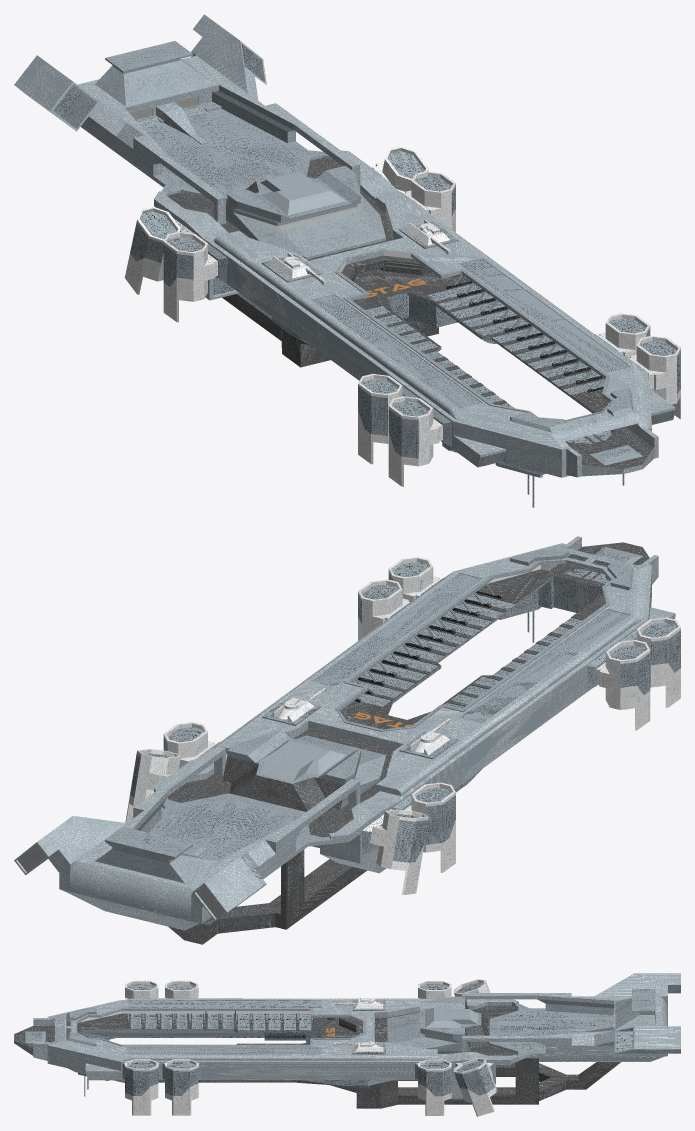
The model's file is airbrone2.fbx.
3 renders of one model, top to bottom at view 1: azimuth 30°, elevation 25°; view 2: azimuth 150°, elevation 25°; view 3: azimuth 270°, elevation 25°, orthographic. The views are drawn at different scales.
Visible parts, largest first — view 1: Group16, Group17, Group30, Group86, Group84, Group74, Group11, Group77, Group75, Group67; view 2: Group16, Group17, Group74, Group84, Group86, Group30, Group67, Group75, Group77, Group11, Group76, Group85; view 3: Group17, Group16, Group75, Group67, Group77, Group11, Group30, Group74, Group86, Group84, Group85, Group76.
Boxes of the visible parts, x1=… form: Group16: x1=14, y1=49, x2=632, y2=507; Group17: x1=140, y1=14, x2=675, y2=485; Group30: x1=388, y1=396, x2=442, y2=486; Group86: x1=163, y1=231, x2=217, y2=322; Group84: x1=124, y1=206, x2=180, y2=294; Group74: x1=358, y1=373, x2=402, y2=464; Group11: x1=629, y1=336, x2=680, y2=419; Group77: x1=404, y1=171, x2=455, y2=232; Group75: x1=372, y1=146, x2=428, y2=193; Group67: x1=598, y1=313, x2=650, y2=358; Group16: x1=130, y1=544, x2=675, y2=944; Group17: x1=14, y1=536, x2=632, y2=942; Group74: x1=596, y1=640, x2=650, y2=730; Group84: x1=370, y1=809, x2=428, y2=894; Group86: x1=404, y1=782, x2=455, y2=872; Group30: x1=636, y1=617, x2=680, y2=707; Group67: x1=358, y1=579, x2=409, y2=640; Group75: x1=125, y1=749, x2=180, y2=822; Group77: x1=163, y1=722, x2=215, y2=768; Group11: x1=388, y1=557, x2=440, y2=601; Group76: x1=270, y1=688, x2=325, y2=722; Group85: x1=406, y1=718, x2=450, y2=755; Group17: x1=14, y1=1000, x2=680, y2=1108; Group16: x1=14, y1=973, x2=680, y2=1081; Group75: x1=453, y1=1058, x2=496, y2=1116; Group67: x1=165, y1=1059, x2=198, y2=1115; Group77: x1=418, y1=1059, x2=451, y2=1115; Group11: x1=125, y1=1059, x2=158, y2=1115; Group30: x1=125, y1=980, x2=158, y2=999; Group74: x1=165, y1=980, x2=198, y2=998; Group86: x1=418, y1=981, x2=451, y2=999; Group84: x1=453, y1=979, x2=490, y2=996; Group85: x1=334, y1=998, x2=383, y2=1008; Group76: x1=334, y1=1041, x2=383, y2=1051.
Size of the model in its own units: 20978 by 9585 by 66642.
